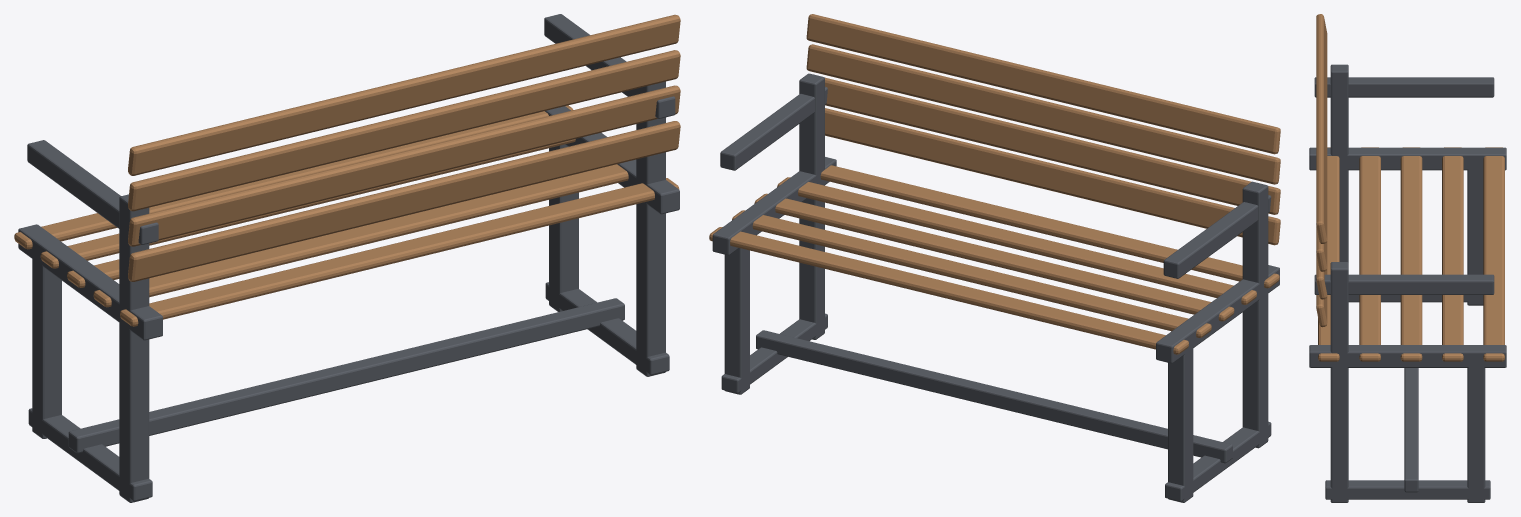
Rendered from bench.glb.
3 renders of one model, left to right at view 1: azimuth 30°, elevation 25°; view 2: azimuth 150°, elevation 25°; view 3: azimuth 270°, elevation 25°, orthographic. The views are drawn at different scales.
Parts seen in each view (by area): view 1: Bench; view 2: Bench; view 3: Bench.
Part boxes in pixels (x1,y1,x2,y2): Bench: [14, 14, 680, 502]; Bench: [709, 14, 1280, 502]; Bench: [1309, 14, 1506, 502].
Size of the model in its own units: 1.38 by 0.87 by 0.55.
